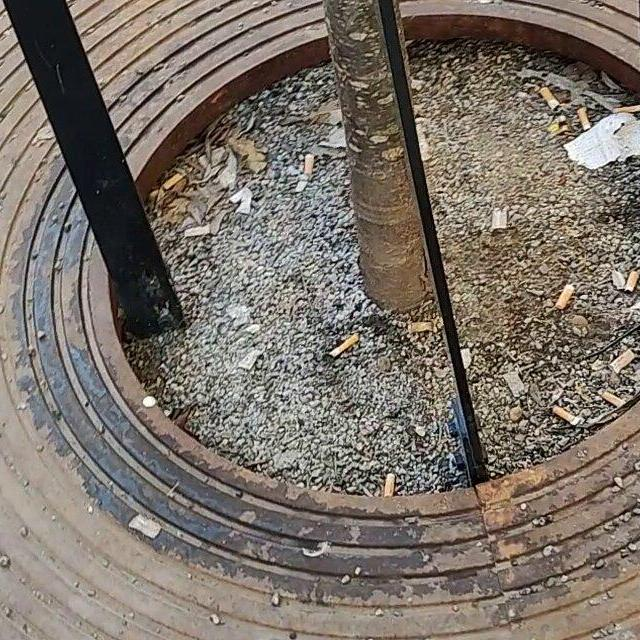Cigarette Butt: (327, 331, 361, 361), (553, 404, 583, 429), (552, 283, 575, 313), (540, 89, 562, 115), (382, 469, 399, 501), (574, 106, 594, 132), (593, 385, 620, 402), (624, 266, 637, 299), (160, 171, 179, 193), (304, 157, 311, 175)
